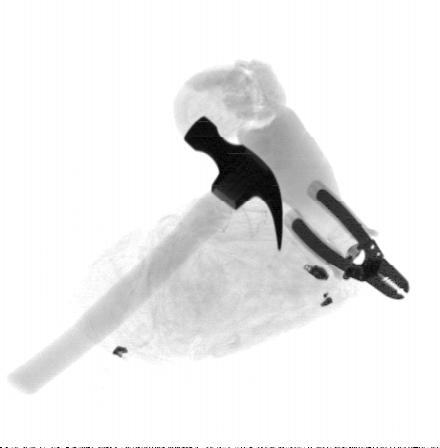Hammer: (7, 115, 284, 397)
Pliers: (281, 180, 410, 299)
